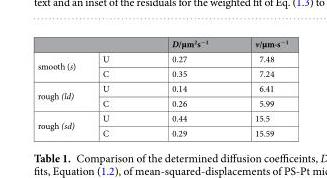table: (36, 36, 287, 138)
table column: (139, 36, 230, 138), (230, 36, 287, 138), (36, 36, 88, 138), (88, 36, 139, 138)
table column header: (36, 36, 287, 51)
table row: (36, 36, 287, 51), (36, 65, 287, 80), (36, 80, 287, 95), (36, 95, 287, 110), (36, 110, 287, 125), (36, 51, 287, 65), (36, 125, 287, 138)
table spanning cell: (36, 80, 88, 110), (36, 51, 88, 80), (36, 110, 88, 138)
